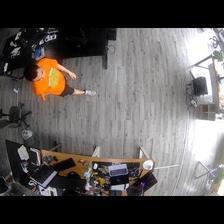normal: (25, 58, 95, 103)
